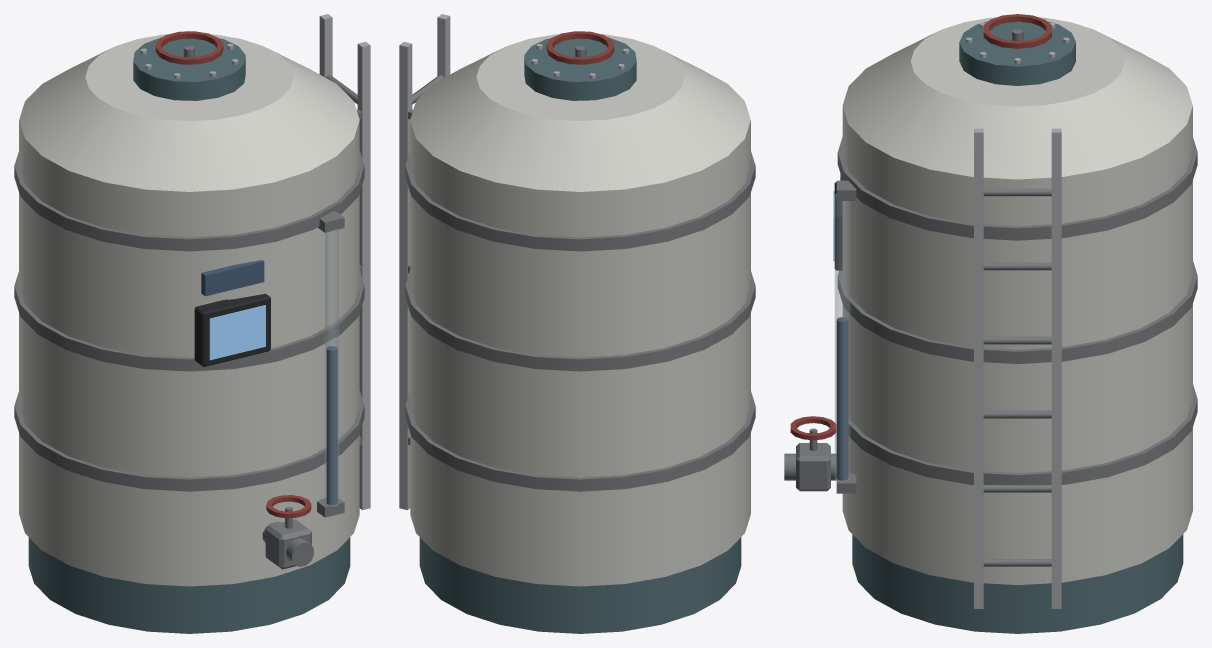
Rendered from astro_water_tank.fbx.
3 views of the same model, side by side, from view 1: azimuth 30°, elevation 25°; view 2: azimuth 150°, elevation 25°; view 3: azimuth 270°, elevation 25° (orthographic). The views are drawn at different scales.
Parts seen in each view (by area): view 1: WaterTank_Body; view 2: WaterTank_Body; view 3: WaterTank_Body.
Boxes of the visible parts, x1,y1,x2,y2 form: WaterTank_Body: [14, 14, 370, 633]; WaterTank_Body: [399, 14, 755, 633]; WaterTank_Body: [784, 14, 1197, 633].
Size of the model in its own units: 190 by 304 by 213.
